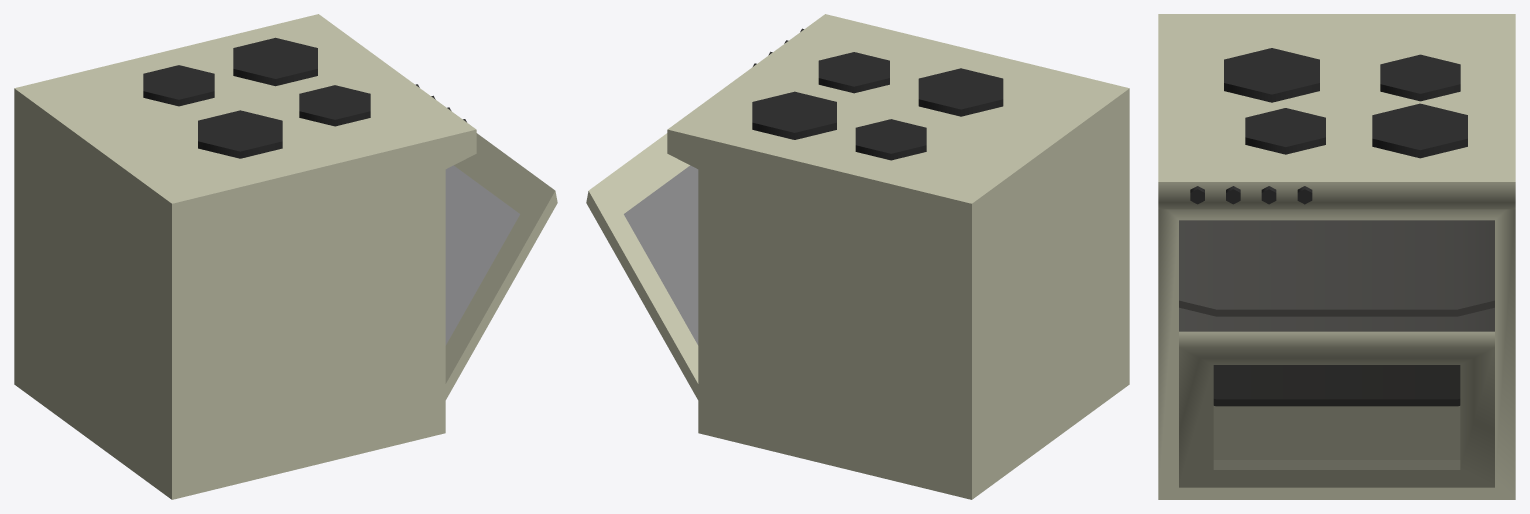
The model's file is fourlol.fbx.
3 renders of one model, left to right at view 1: azimuth 30°, elevation 25°; view 2: azimuth 150°, elevation 25°; view 3: azimuth 270°, elevation 25°, orthographic. The views are drawn at different scales.
Parts seen in each view (by area): view 1: Cube, Porte, Cube_2, Cylinder_2, Cylinder, Cylinder_1, Cylinder_3; view 2: Cube, Porte, Cube_2, Cylinder_2, Cylinder, Cylinder_3, Cylinder_1; view 3: Cube, Plaque2, Porte, Cube_2, Plaque1, Cylinder_2, Cylinder, Cylinder_1, Cylinder_3.
Boxes of the visible parts, bbox=[...] form: Cube: bbox=[14, 14, 476, 499]; Porte: bbox=[445, 133, 557, 399]; Cube_2: bbox=[445, 165, 519, 344]; Cylinder_2: bbox=[198, 110, 282, 158]; Cylinder: bbox=[233, 37, 317, 86]; Cylinder_1: bbox=[299, 85, 370, 126]; Cylinder_3: bbox=[143, 65, 214, 106]; Cube: bbox=[667, 14, 1129, 499]; Porte: bbox=[586, 133, 698, 399]; Cube_2: bbox=[624, 165, 698, 344]; Cylinder_2: bbox=[918, 68, 1003, 116]; Cylinder: bbox=[752, 91, 836, 139]; Cylinder_3: bbox=[855, 119, 926, 160]; Cylinder_1: bbox=[818, 52, 889, 93]; Cube: bbox=[1158, 14, 1515, 499]; Plaque2: bbox=[1179, 220, 1494, 316]; Porte: bbox=[1179, 331, 1494, 487]; Cube_2: bbox=[1213, 365, 1460, 469]; Plaque1: bbox=[1179, 307, 1494, 406]; Cylinder_2: bbox=[1224, 48, 1319, 102]; Cylinder: bbox=[1372, 103, 1467, 158]; Cylinder_1: bbox=[1245, 108, 1325, 154]; Cylinder_3: bbox=[1380, 54, 1460, 101].
Bounding box in the file's own units: 289 × 212 × 200.
